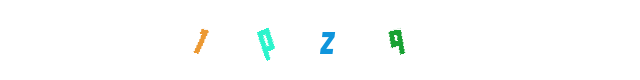1: (161, 0, 241, 80)
9: (357, 0, 437, 80)
P: (254, 0, 334, 80)
Z: (280, 0, 360, 80)
